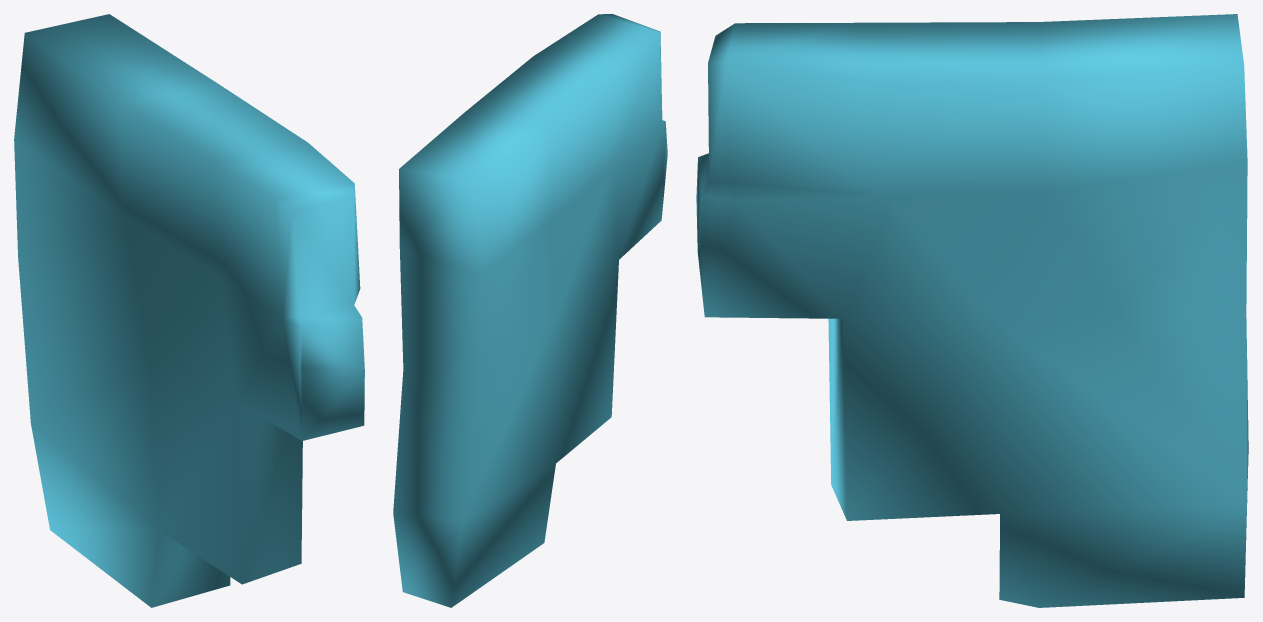
The model's file is wall_elem_02.FBX.
The picture shows the model from 3 angles, left to right: view 1: azimuth 30°, elevation 25°; view 2: azimuth 150°, elevation 25°; view 3: azimuth 270°, elevation 25°; orthographic projection. The views are drawn at different scales.
Visible parts, largest first — view 1: wall_elem_02; view 2: wall_elem_02; view 3: wall_elem_02.
Part boxes in pixels (x1=…): wall_elem_02: x1=14, y1=14, x2=364, y2=607; wall_elem_02: x1=393, y1=14, x2=667, y2=607; wall_elem_02: x1=696, y1=14, x2=1248, y2=607.
Size of the model in its own units: 13.77 by 56.89 by 52.09.
